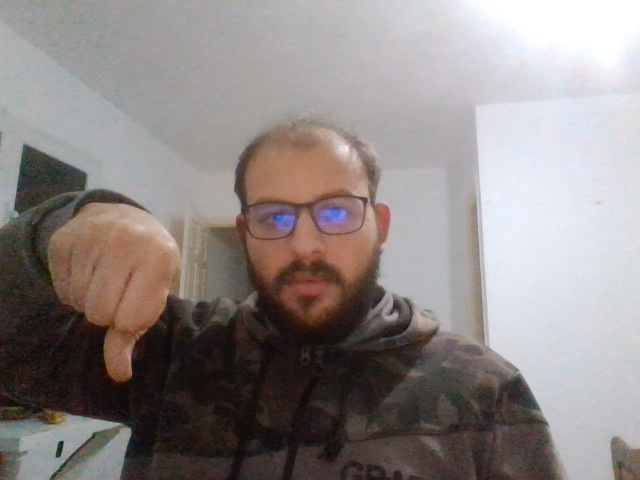Yes: (49, 221, 181, 379)
